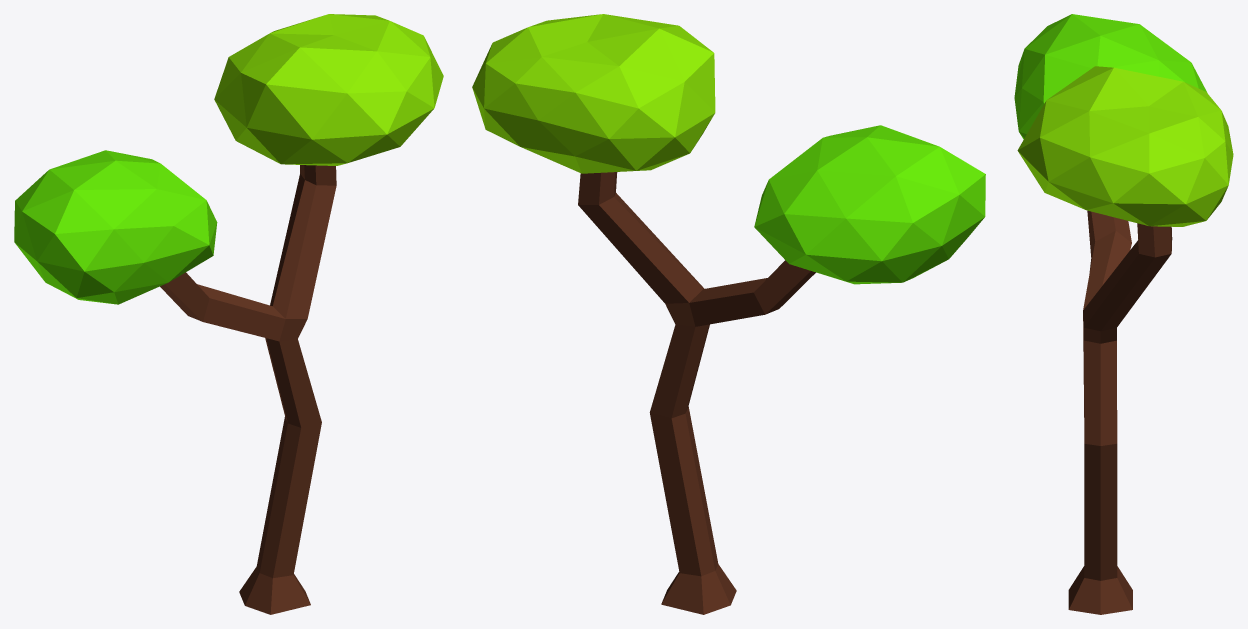
The model's file is Low_poly_tree__5.glb.
The picture shows the model from 3 angles, left to right: view 1: azimuth 30°, elevation 25°; view 2: azimuth 150°, elevation 25°; view 3: azimuth 270°, elevation 25°; orthographic projection. The views are drawn at different scales.
Parts seen in each view (by area): view 1: Low poly tree #5; view 2: Low poly tree #5; view 3: Low poly tree #5.
Part boxes in pixels (bbox=[...]): Low poly tree #5: bbox=[14, 14, 443, 614]; Low poly tree #5: bbox=[472, 14, 985, 614]; Low poly tree #5: bbox=[1014, 14, 1233, 614].
Bounding box in the file's own units: 4.28 × 5.12 × 1.85.
